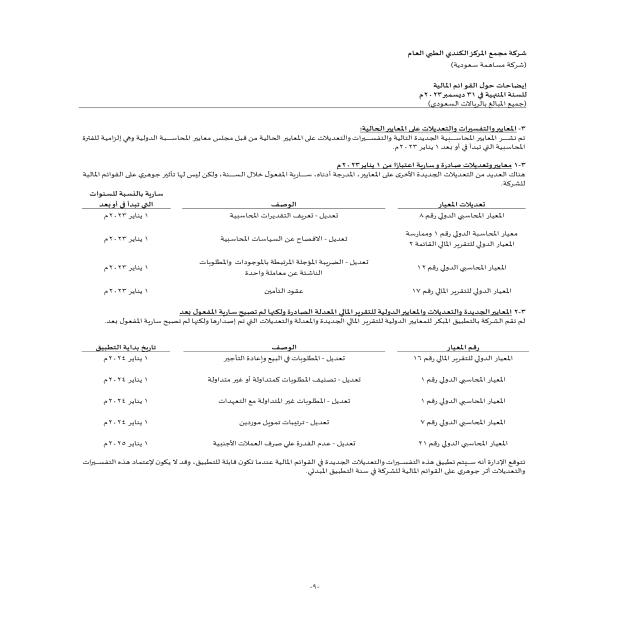notes: (410, 77, 535, 91)
table: (69, 327, 543, 458)
